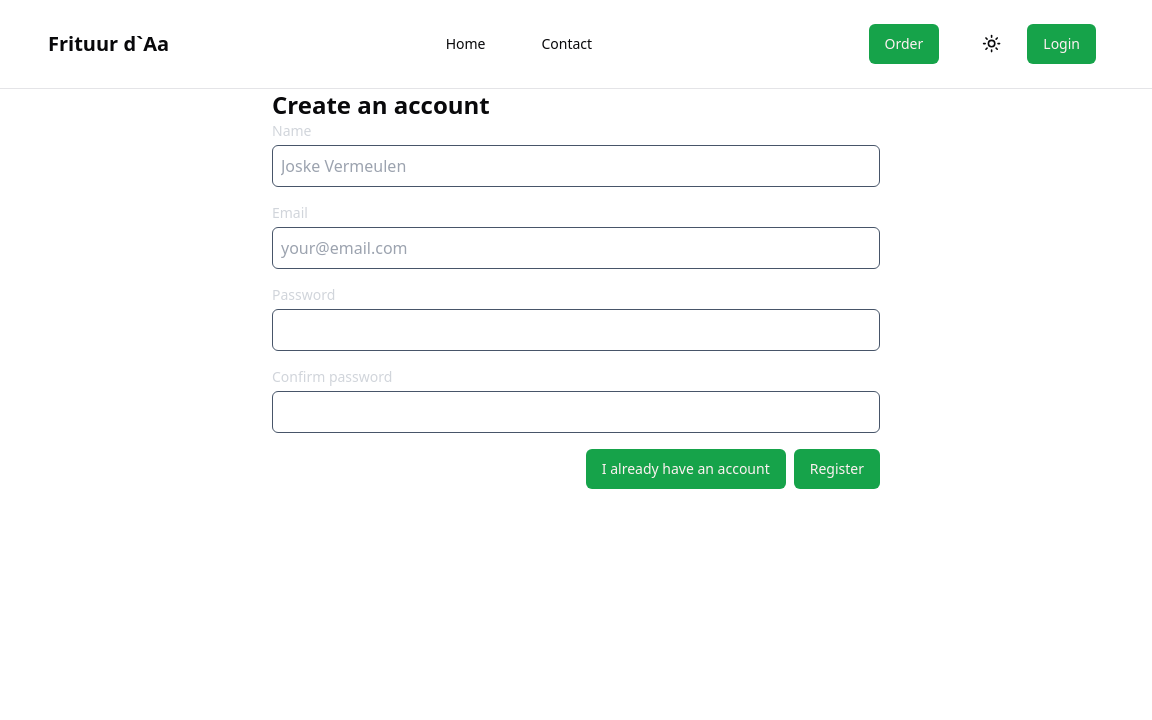
Test: The Register Page › invalid email
Type "test" into the field with test id "name" at [576, 166], box [272,145,880,187]
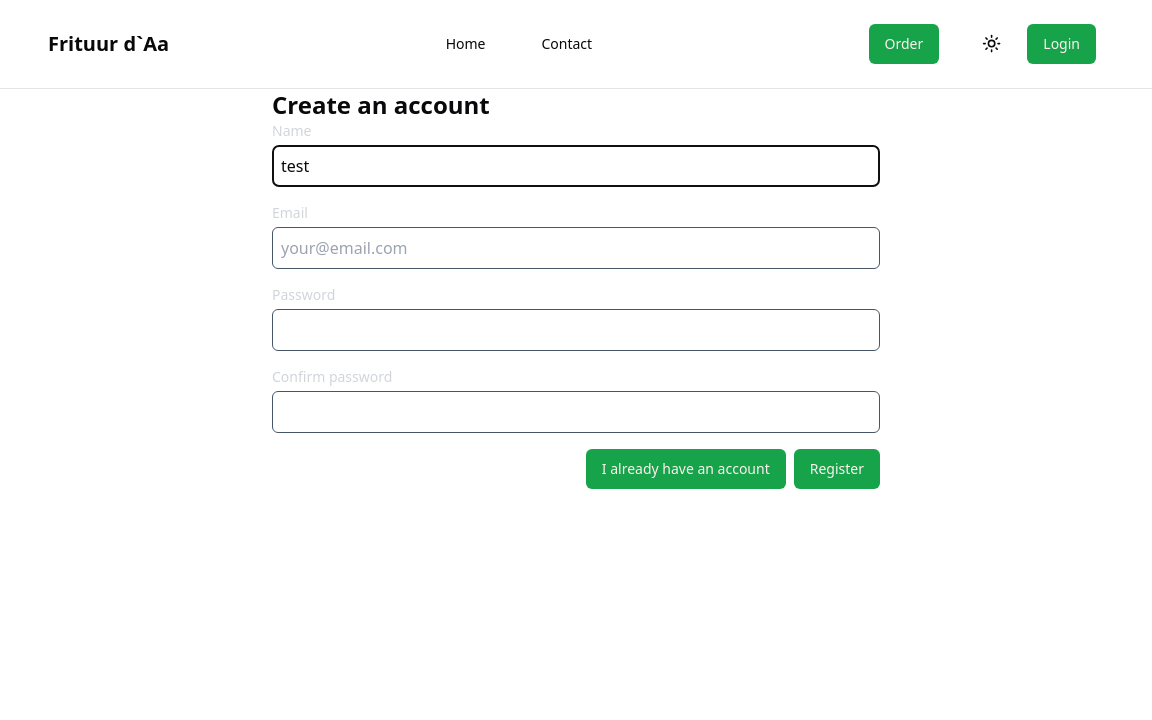
Type "test" into the field with test id "email" at [576, 248], box [272,227,880,269]
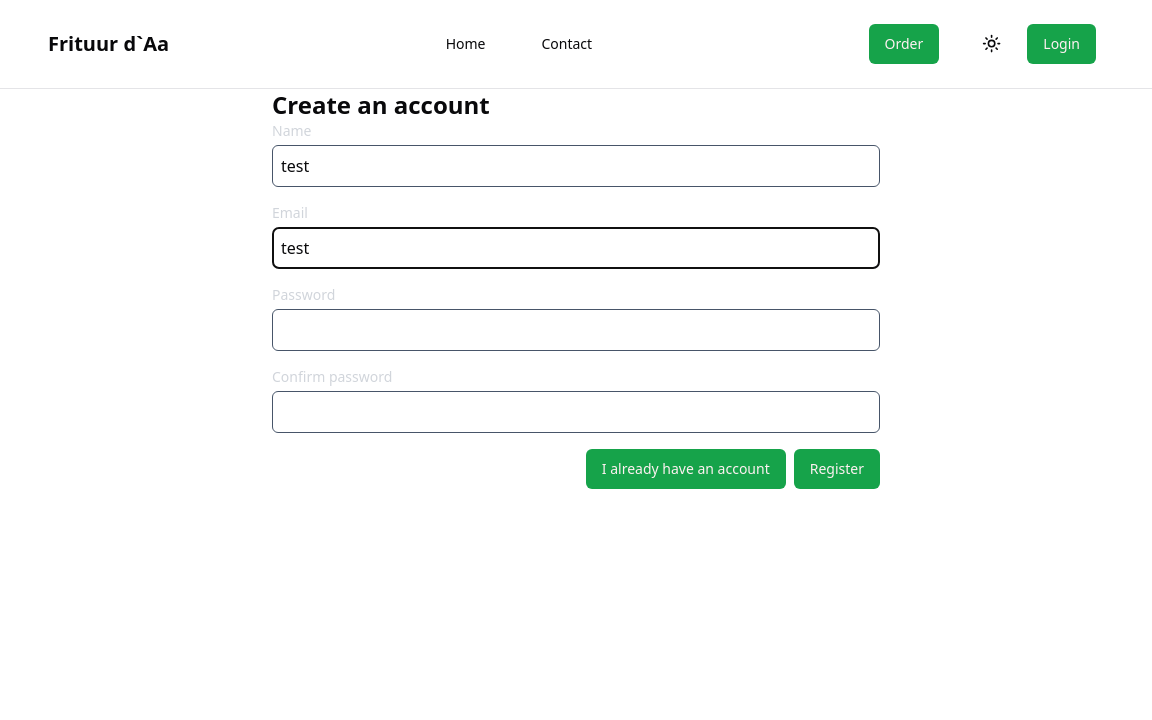
Type "password" into the password field with test id "password" at [576, 330], box [272,309,880,351]
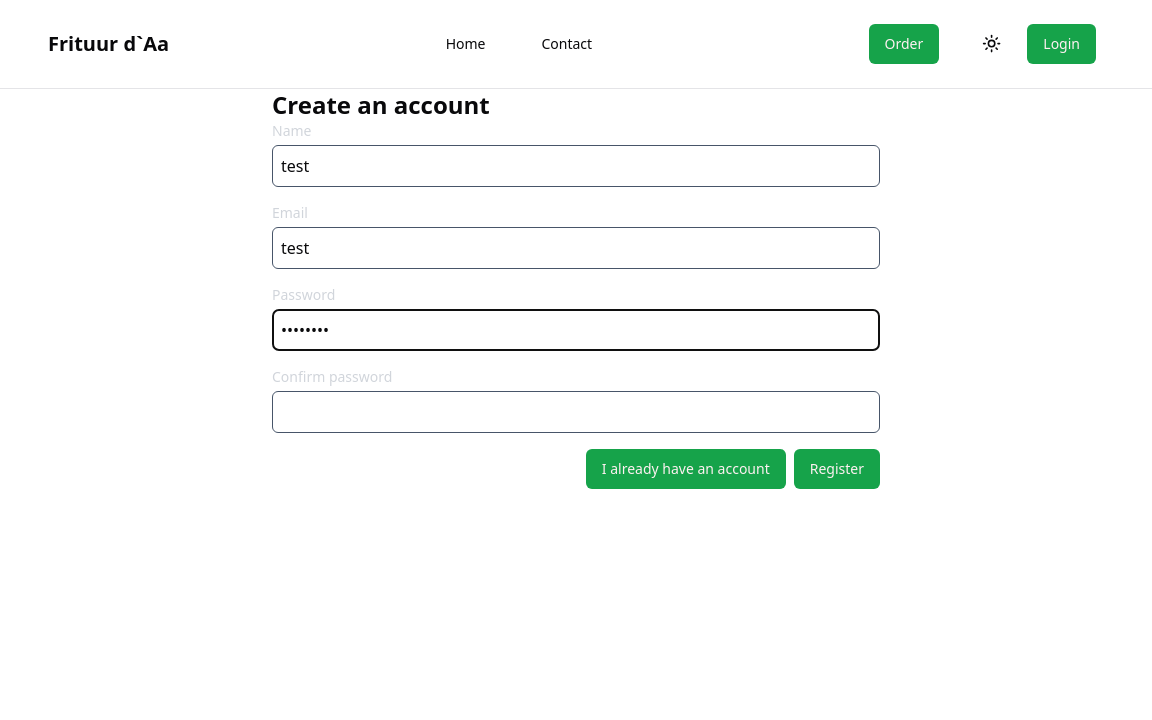
Type "password" into the password field with test id "passwordConfirm" at [576, 412], box [272,391,880,433]
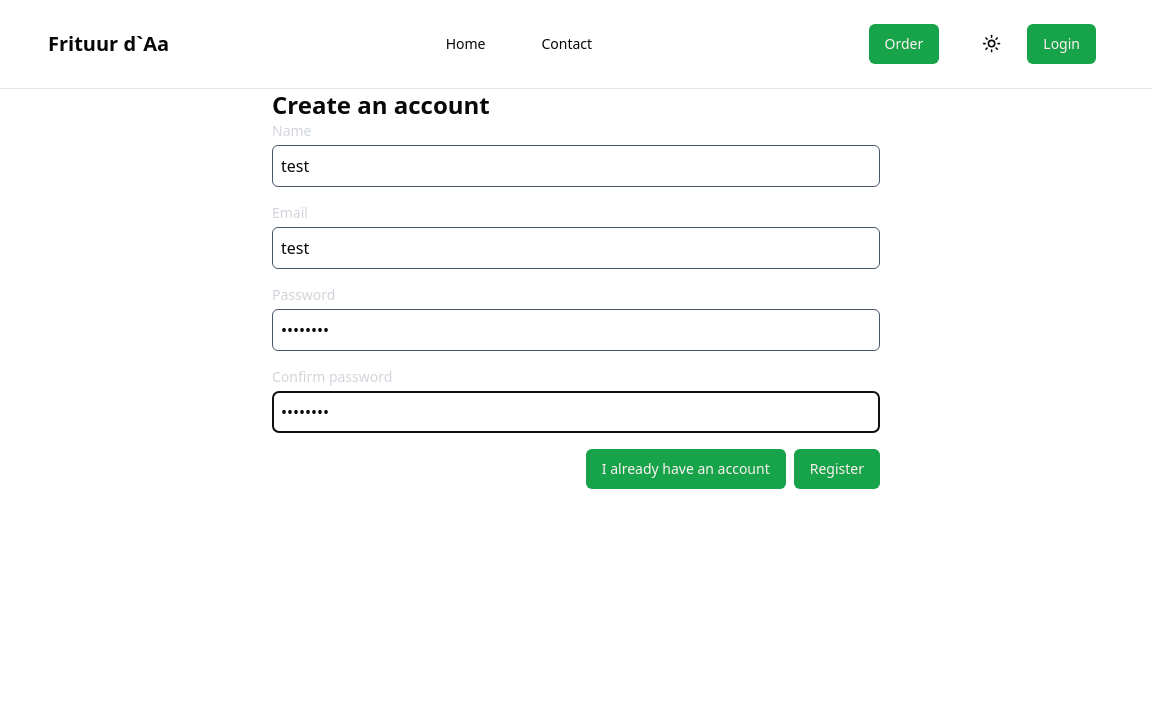
Click the button with test id "register" at [837, 469], box [794,449,880,489]
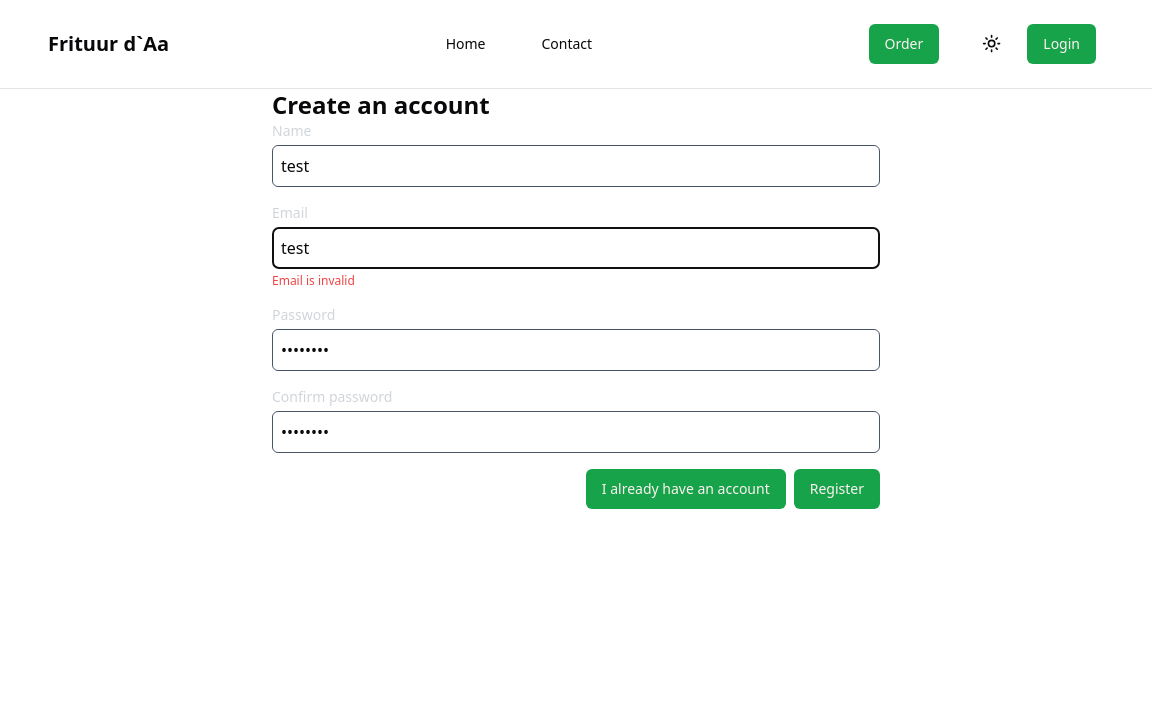
Expected: the element with test id "error" reads "Email is invalid", [272,272,355,289]
